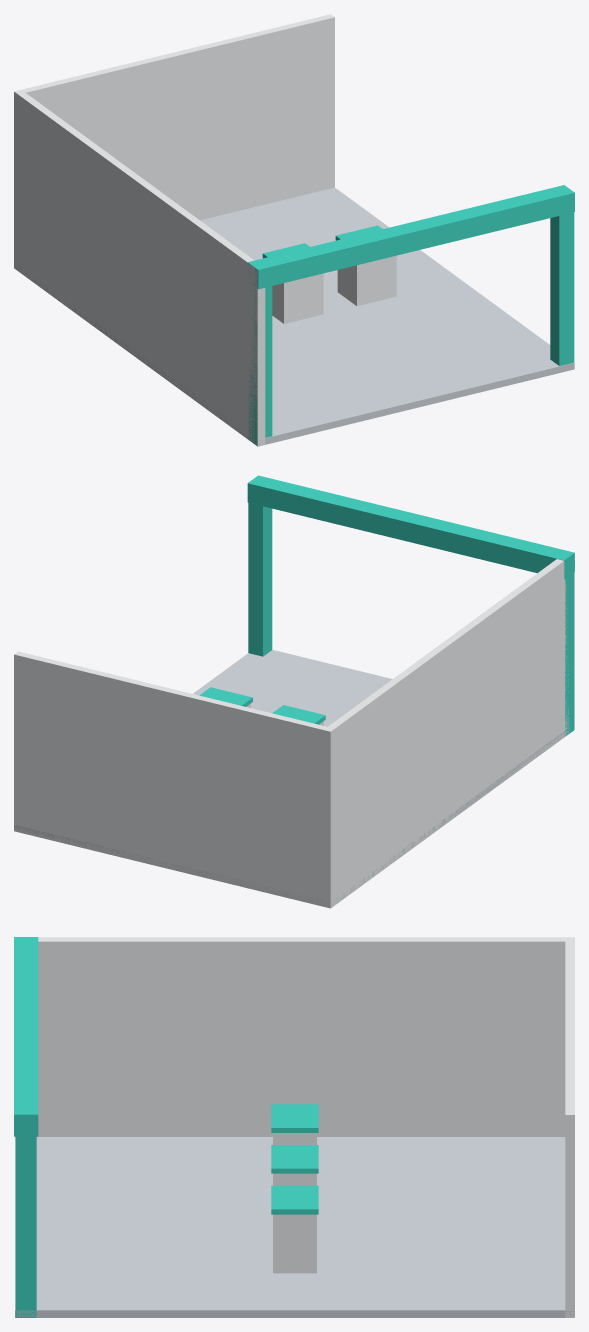
3 renders of one model, top to bottom at view 1: azimuth 30°, elevation 25°; view 2: azimuth 150°, elevation 25°; view 3: azimuth 270°, elevation 25°, orthographic. The views are drawn at different scales.
Parts seen in each view (by area): view 1: Exhibition Booth Concept; view 2: Exhibition Booth Concept; view 3: Exhibition Booth Concept.
Part boxes in pixels (<box>): Exhibition Booth Concept: <box>14,14,574,446</box>; Exhibition Booth Concept: <box>14,475,574,908</box>; Exhibition Booth Concept: <box>14,937,574,1317</box>.
Size of the model in its own units: 6 by 3.2 by 8.01.
